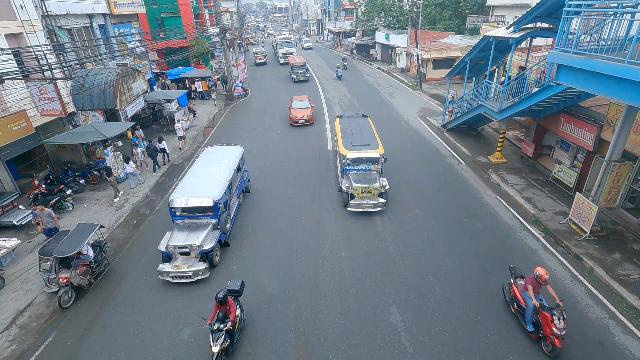car: (286, 94, 316, 128), (301, 38, 313, 51)
jeepney: (154, 143, 250, 287), (333, 112, 392, 215), (288, 56, 310, 83), (252, 46, 268, 67), (245, 33, 259, 46)
motorcycle: (502, 261, 571, 356), (202, 276, 250, 360), (334, 63, 343, 81), (341, 56, 349, 71), (261, 40, 265, 48)
truck: (274, 35, 298, 64)
